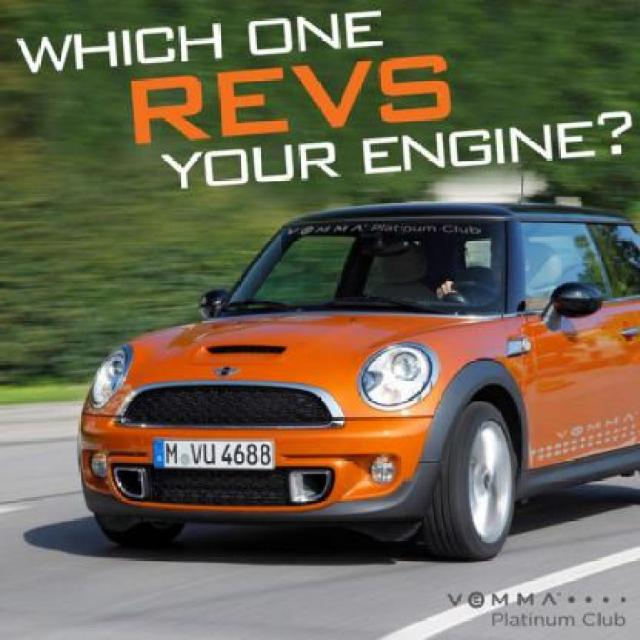License-Plates: (150, 440, 276, 473)
